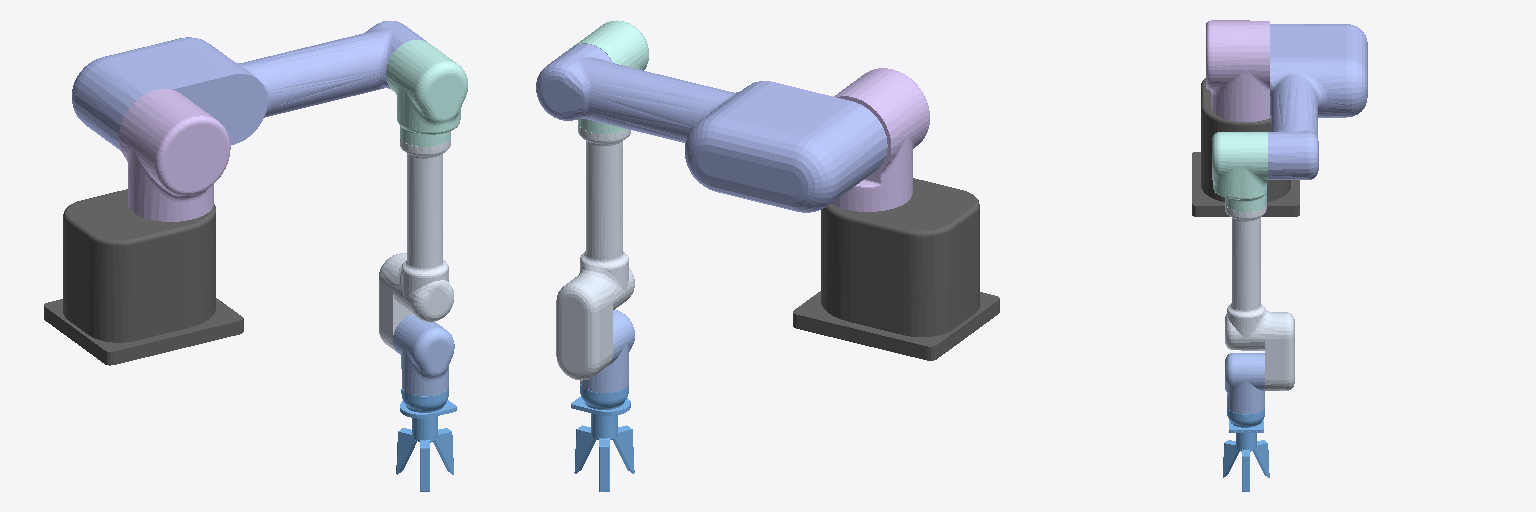
URDF robot description (robot_arm):
<robot
  name="robot_arm">
  <link
    name="base_link">
    <visual>
      <origin
        xyz="0 0 -0.1655"
        rpy="0 0 -1.5708" />
      <geometry>
        <mesh
          filename="package://robot_arm/meshes/base_link.STL" />
      </geometry>
      <material
        name="">
        <color
          rgba="0.43922 0.43922 0.43922 1" />
      </material>
    </visual>
    <collision>
      <origin
        xyz="0 0 0"
        rpy="0 0 0" />
      <geometry>
        <mesh
          filename="package://robot_arm/meshes/base_link.STL" />
      </geometry>
    </collision>
  </link>
  <link
    name="link1">
    <visual>
      <origin
        xyz="0 0 0"
        rpy="0 0 0" />
      <geometry>
        <mesh
          filename="package://robot_arm/meshes/link1.STL" />
      </geometry>
      <material
        name="">
        <color
          rgba="0.87843 0.81176 1 1" />
      </material>
    </visual>
    <collision>
      <origin
        xyz="0 0 0"
        rpy="0 0 0" />
      <geometry>
        <mesh
          filename="package://robot_arm/meshes/link1.STL" />
      </geometry>
    </collision>
  </link>
  <joint
    name="joint1"
    type="revolute">
    <origin
      xyz="0 0 0"
      rpy="0 0 3.14" />
    <parent
      link="base_link" />
    <child
      link="link1" />
    <axis
      xyz="0 0 1" />
    <limit
      lower="-3.142"
      upper="3.142"
      effort="0"
      velocity="2.304" />
  </joint>
  <link
    name="link2">
    <visual>
      <origin
        xyz="0 0 0"
        rpy="0 0 0" />
      <geometry>
        <mesh
          filename="package://robot_arm/meshes/link2.STL" />
      </geometry>
      <material
        name="">
        <color
          rgba="0.74118 0.79216 1 1" />
      </material>
    </visual>
    <collision>
      <origin
        xyz="0 0 0"
        rpy="0 0 0" />
      <geometry>
        <mesh
          filename="package://robot_arm/meshes/link2.STL" />
      </geometry>
    </collision>
  </link>
  <joint
    name="joint2"
    type="revolute">
    <origin
      xyz="0 -0.069 0"
      rpy="1.5708 -4.7124 0" />
    <parent
      link="link1" />
    <child
      link="link2" />
    <axis
      xyz="0 0 -1" />
    <limit
      lower="0"
      upper="3.142"
      effort="0"
      velocity="2.304" />
  </joint>
  <link
    name="link3">
    <visual>
      <origin
        xyz="0 0 0"
        rpy="0 0 0" />
      <geometry>
        <mesh
          filename="package://robot_arm/meshes/link3.STL" />
      </geometry>
      <material
        name="">
        <color
          rgba="0.81176 1 0.97647 1" />
      </material>
    </visual>
    <collision>
      <origin
        xyz="0 0 0"
        rpy="0 0 0" />
      <geometry>
        <mesh
          filename="package://robot_arm/meshes/link3.STL" />
      </geometry>
    </collision>
  </link>
  <joint
    name="joint3"
    type="revolute">
    <origin
      xyz="0 -0.682434 -0.069"
      rpy="0 0 -1.5708" />
    <parent
      link="link2" />
    <child
      link="link3" />
    <axis
      xyz="0 0 -1" />

    <limit
      lower="-1.2217"
      upper="4.4506"
      effort="0"
      velocity="3.142" />
  </joint>
  <link
    name="link4">
    <visual>
      <origin
        xyz="0 0 0"
        rpy="0 0 0" />
      <geometry>
        <mesh
          filename="package://robot_arm/meshes/link4.STL" />
      </geometry>
      <material
        name="">
        <color
          rgba="0.90588 0.9451 1 1" />
      </material>
    </visual>
    <collision>
      <origin
        xyz="0 0 0"
        rpy="0 0 0" />
      <geometry>
        <mesh
          filename="package://robot_arm/meshes/link4.STL" />
      </geometry>
    </collision>
  </link>
  <joint
    name="joint4"
    type="revolute">
    <origin
      xyz="0 0.683159 0"
      rpy="-1.5708 1.5708 0" />
    <parent
      link="link3" />
    <child
      link="link4" />
    <axis
      xyz="0 0 1" />
    <limit
      lower="-3.142"
      upper="3.142"
      effort="0"
      velocity="4.887" />
  </joint>
  <link
    name="link5">
    <visual>
      <origin
        xyz="0 0 0"
        rpy="0 0 0" />
      <geometry>
        <mesh
          filename="package://robot_arm/meshes/link5.STL" />
      </geometry>
      <material
        name="">
        <color
          rgba="0.71765 0.80784 1 1" />
      </material>
    </visual>
    <collision>
      <origin
        xyz="0 0 0"
        rpy="0 0 0" />
      <geometry>
        <mesh
          filename="package://robot_arm/meshes/link5.STL" />
      </geometry>
    </collision>
  </link>
  <joint
    name="joint5"
    type="revolute">
    <origin
      xyz="-0.001 0 0"
      rpy="1.5708 0 -1.5708" />
    <parent
      link="link4" />
    <child
      link="link5" />
    <axis
      xyz="0 0 1" />
    <limit
      lower="-2.007"
      upper="2.007"
      effort="0"
      velocity="4.66" />
  </joint>
  <link
    name="link6">
    <visual>
      <origin
        xyz="0 0 -0.137"
        rpy="0 0 0" />
      <geometry>
        <mesh
          filename="package://robot_arm/meshes/link6.STL" />
      </geometry>
      <material
        name="">
        <color
          rgba="0.52941 0.76471 1 1" />
      </material>
    </visual>
    <collision>
      <origin
        xyz="0 0 0"
        rpy="0 0 0" />
      <geometry>
        <mesh
          filename="package://robot_arm/meshes/link6.STL" />
      </geometry>
    </collision>
  </link>
  <joint
    name="joint6"
    type="revolute">
    <origin
      xyz="0 0.2935 0"
      rpy="-1.5708 1.5708 0" />
    <parent
      link="link5" />
    <child
      link="link6" />
    <axis
      xyz="0 0 1" />
    <limit
      lower="-6.284"
      upper="6.284"
      effort="0"
      velocity="4.887" />
  </joint>


  <link
    name="link7">
    <visual>
      <origin
        xyz="0 0 0"
        rpy="-1.5708 0 2.618" />
      <geometry>
        <mesh
          filename="package://robot_arm/meshes/link7.STL" />
      </geometry>
      <material
        name="">
        <color
          rgba="0.52941 0.76471 1 1" />
      </material>
    </visual>
    <collision>
      <origin
        xyz="0 0 0"
        rpy="0 0 0" />
      <geometry>
        <mesh
          filename="package://robot_arm/meshes/link7.STL" />
      </geometry>
    </collision>
  </link>
  <joint
    name="joint7"
    type="fixed">
    <origin
      xyz="0 0 -0.127"
      rpy="0 0 0" />
    <parent
      link="link6" />
    <child
      link="link7" />
    <axis
      xyz="0 0 0" />
  </joint>

</robot>

--- Render facts (derived) ---
3 views of the same robot in one strip: view 1: azimuth 30°, elevation 25°; view 2: azimuth 150°, elevation 25°; view 3: azimuth 270°, elevation 25° (orthographic).
Robot: robot_arm — 8 links, 7 joints (6 revolute, 1 fixed); root link base_link; default pose: every joint at zero.
Links seen in each view (by area): view 1: base_link, link2, link1, link4, link3, link5, link7, link6; view 2: link2, base_link, link4, link1, link7, link3, link5, link6; view 3: link2, link4, link1, base_link, link3, link5, link7.
Boxes of the visible links, <box> form: base_link: <box>44,189,243,365</box>; link2: <box>72,21,426,151</box>; link1: <box>119,89,230,221</box>; link4: <box>379,138,453,351</box>; link3: <box>386,40,467,146</box>; link5: <box>393,314,454,395</box>; link7: <box>396,400,456,491</box>; link6: <box>401,388,448,412</box>; link2: <box>536,44,887,212</box>; base_link: <box>793,178,999,360</box>; link4: <box>556,125,634,380</box>; link1: <box>831,68,929,211</box>; link7: <box>571,397,634,491</box>; link3: <box>574,20,648,133</box>; link5: <box>580,310,634,392</box>; link6: <box>580,384,628,409</box>; link2: <box>1268,24,1367,179</box>; link4: <box>1225,204,1294,390</box>; link1: <box>1206,20,1270,121</box>; base_link: <box>1192,78,1299,216</box>; link3: <box>1212,132,1267,211</box>; link5: <box>1225,353,1264,413</box>; link7: <box>1223,419,1269,491</box>.
Bounding box of the posed robot: 1.01 × 0.504 × 1.13 m (x, y, z).
8 mesh visuals loaded from 8 distinct referenced files (8 binary STL).